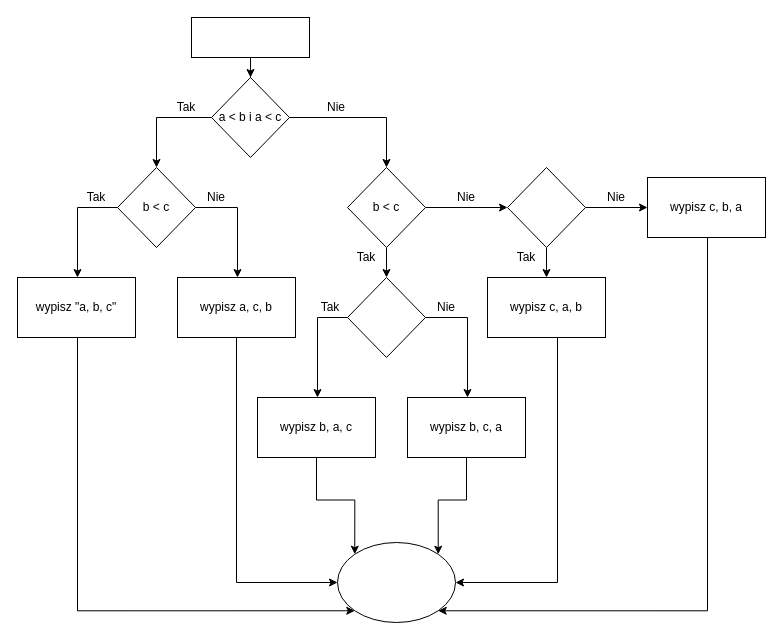
This 783x640 diagram has some shape labels left out. The centre of each missing label's shape, as x and y in pixels:
a < b: pixel 546 207
a < c: pixel 386 317
pobierz a, b, c: pixel 250 37
STOP: pixel 396 582
